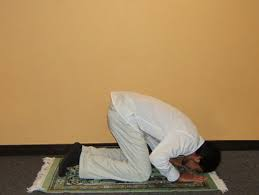sujud: (59, 90, 226, 182)
